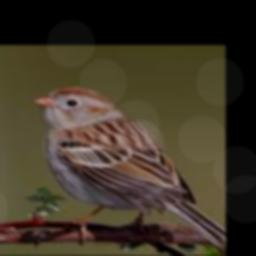Sparrow: (33, 86, 225, 251)
